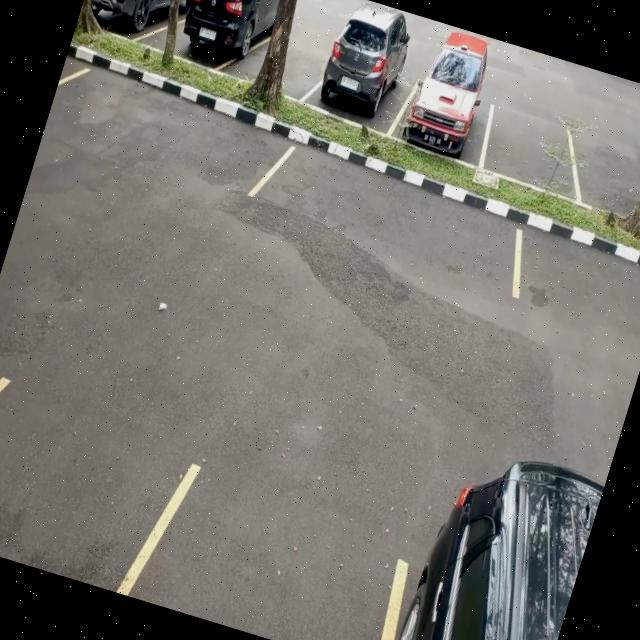empty: (121, 454, 407, 640), (255, 142, 532, 304), (0, 386, 199, 593), (40, 56, 290, 210), (477, 101, 588, 197), (568, 128, 640, 228)
occupied: (304, 28, 418, 140), (393, 64, 502, 165), (167, 0, 284, 82), (75, 0, 188, 51)
